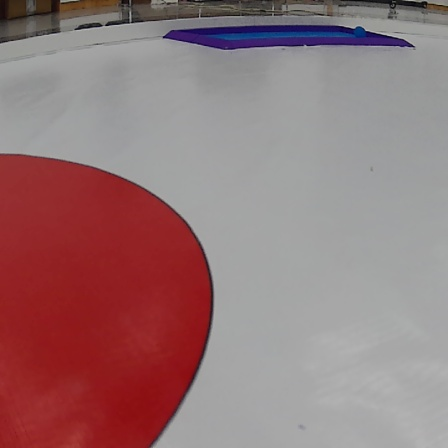blue: (354, 26, 365, 37)
blue_aim: (163, 22, 415, 52)
red_base: (1, 153, 213, 448)
